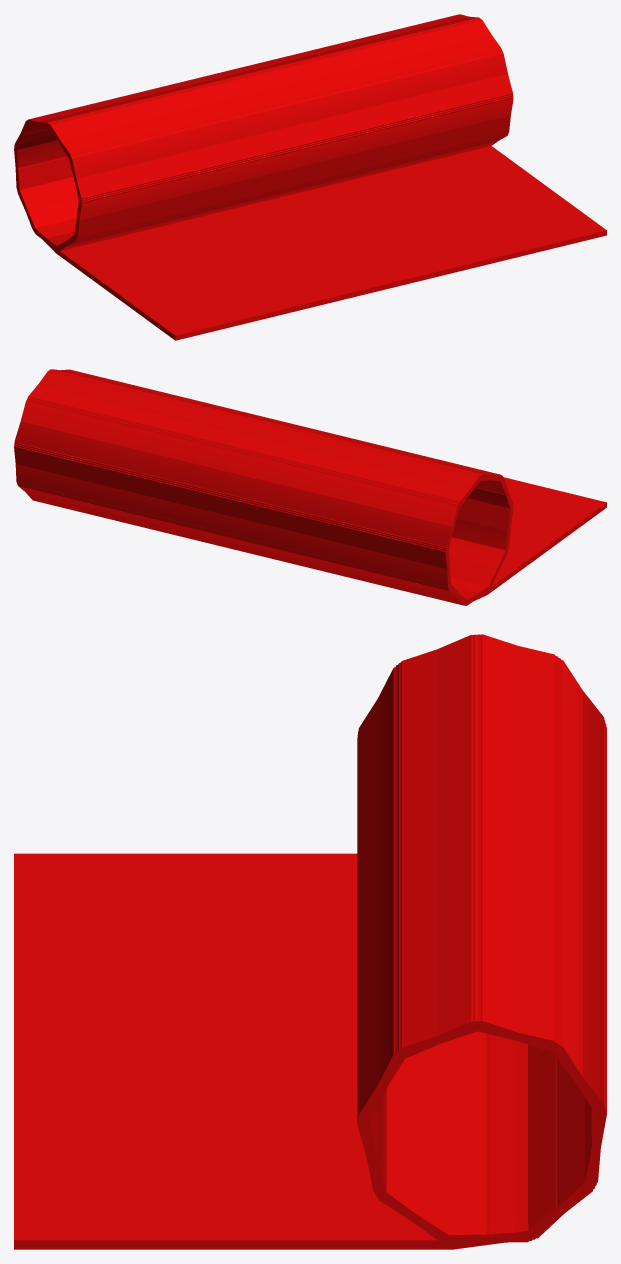
The model's file is hypothesis_6_hero_3_ROLL_CARPET.fbx.
The picture shows the model from 3 angles, top to bottom: view 1: azimuth 30°, elevation 25°; view 2: azimuth 150°, elevation 25°; view 3: azimuth 270°, elevation 25°; orthographic projection. The views are drawn at different scales.
Parts seen in each view (by area): view 1: pPlane1; view 2: pPlane1; view 3: pPlane1.
Boxes of the visible parts, left/top/right/bottom form: pPlane1: left=14, top=14, right=606, bottom=340; pPlane1: left=14, top=369, right=606, bottom=605; pPlane1: left=14, top=634, right=606, bottom=1249.
Bounding box in the file's own units: 4.62 × 1.27 × 2.99.
